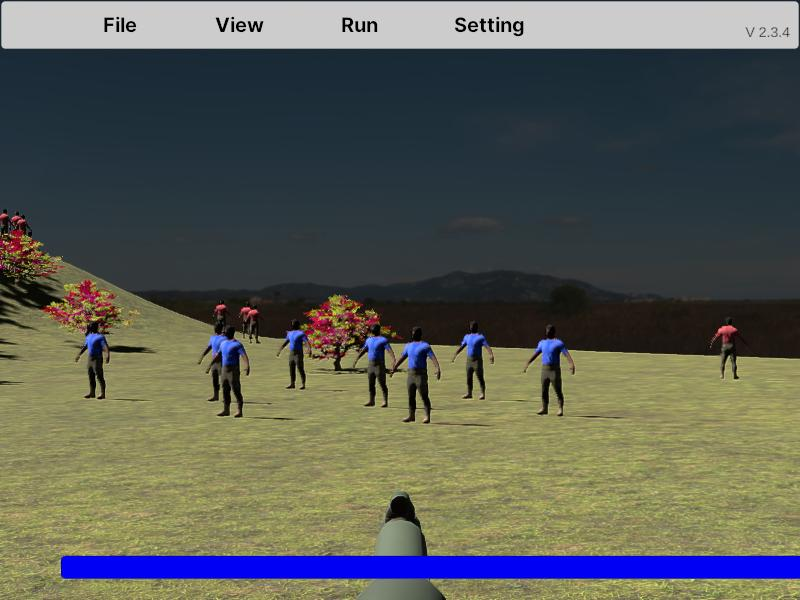Human: (390, 325, 441, 424), (524, 324, 575, 417), (208, 324, 250, 418), (207, 325, 250, 416), (354, 323, 396, 408), (452, 320, 494, 401), (453, 320, 494, 400), (199, 321, 234, 402), (277, 318, 312, 390), (77, 321, 109, 399), (710, 316, 748, 380)
